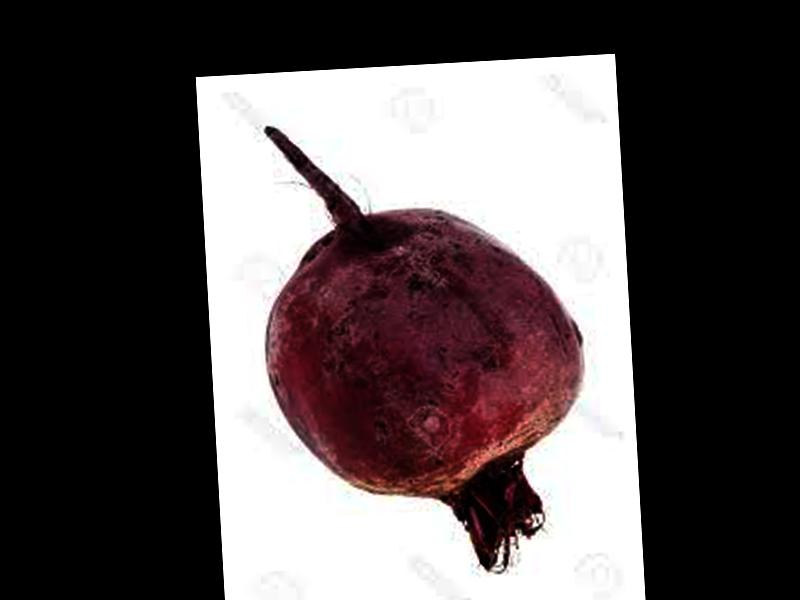Beet: (255, 114, 590, 582)
